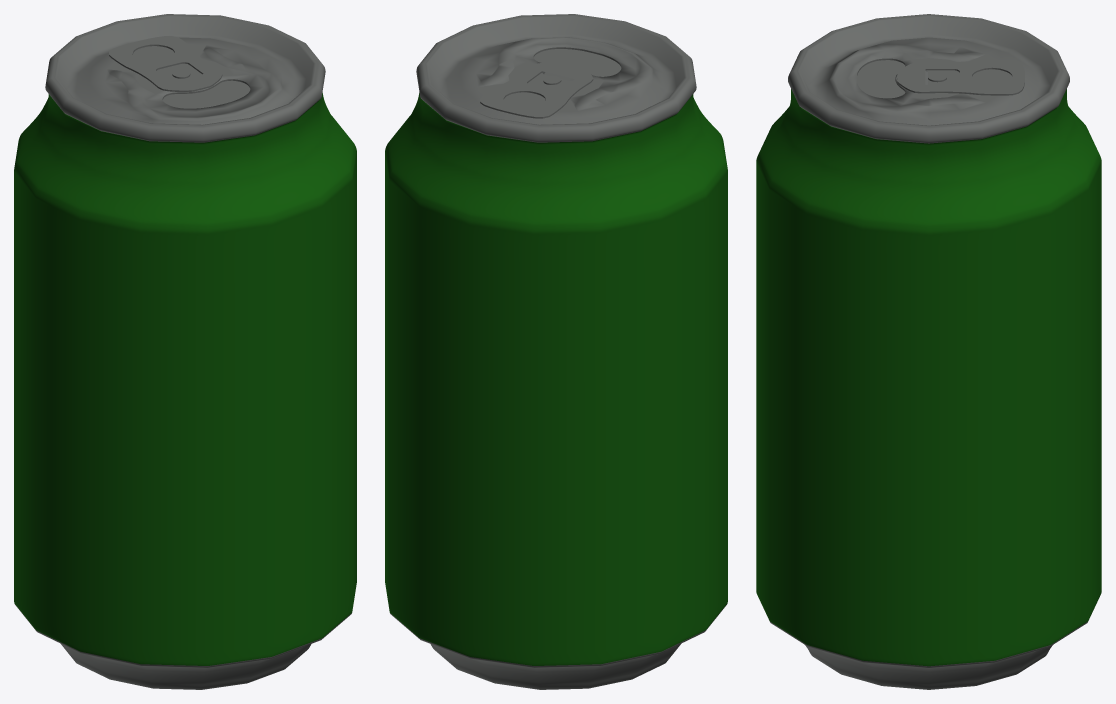
The model's file is Can.fbx.
The picture shows the model from 3 angles, left to right: view 1: azimuth 30°, elevation 25°; view 2: azimuth 150°, elevation 25°; view 3: azimuth 270°, elevation 25°; orthographic projection.
Parts seen in each view (by area): view 1: Can2; view 2: Can2; view 3: Can2.
Part boxes in pixels (x1,y1,x2,y2): Can2: (14, 14, 356, 689); Can2: (385, 14, 727, 689); Can2: (756, 14, 1101, 689).
Size of the model in its own units: 853 by 1547 by 853.
